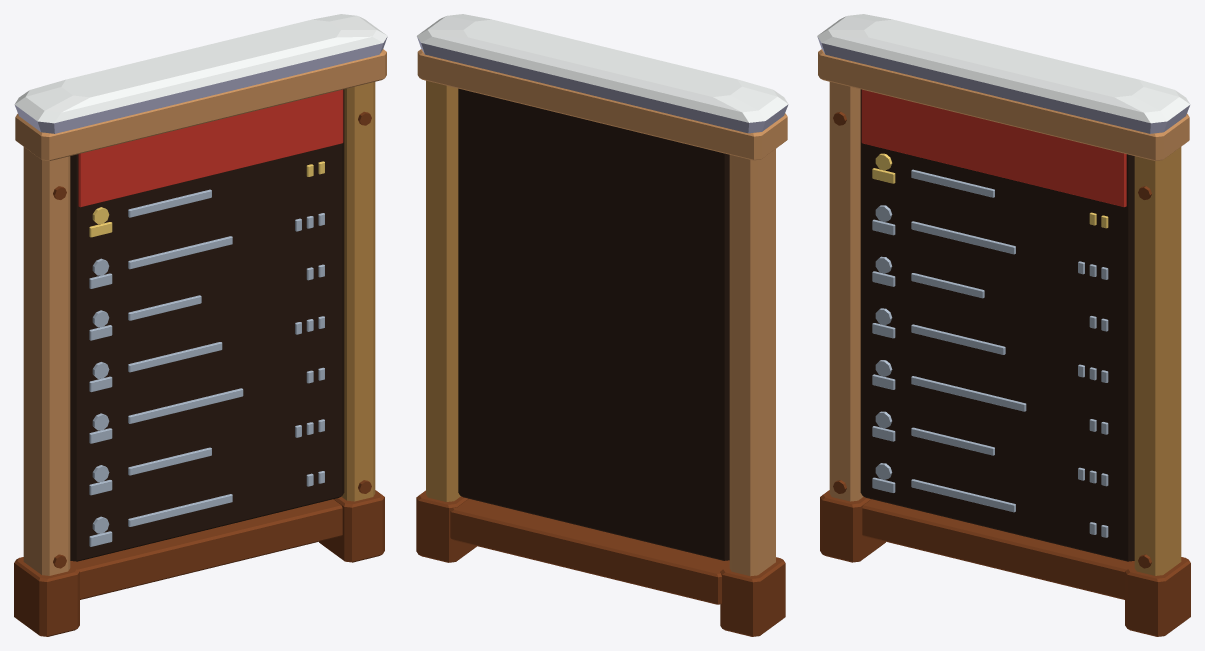
Rendered from Leaderboard03.glb.
3 renders of one model, left to right at view 1: azimuth 30°, elevation 25°; view 2: azimuth 150°, elevation 25°; view 3: azimuth 330°, elevation 25°, orthographic.
Parts seen in each view (by area): view 1: Leaderboard03; view 2: Leaderboard03; view 3: Leaderboard03.
Part boxes in pixels (bbox=[...]): Leaderboard03: bbox=[14, 14, 387, 636]; Leaderboard03: bbox=[416, 14, 788, 636]; Leaderboard03: bbox=[817, 14, 1190, 636].
Bounding box in the file's own units: 1.69 × 2.44 × 0.2982.
1 material, 1 textured.
